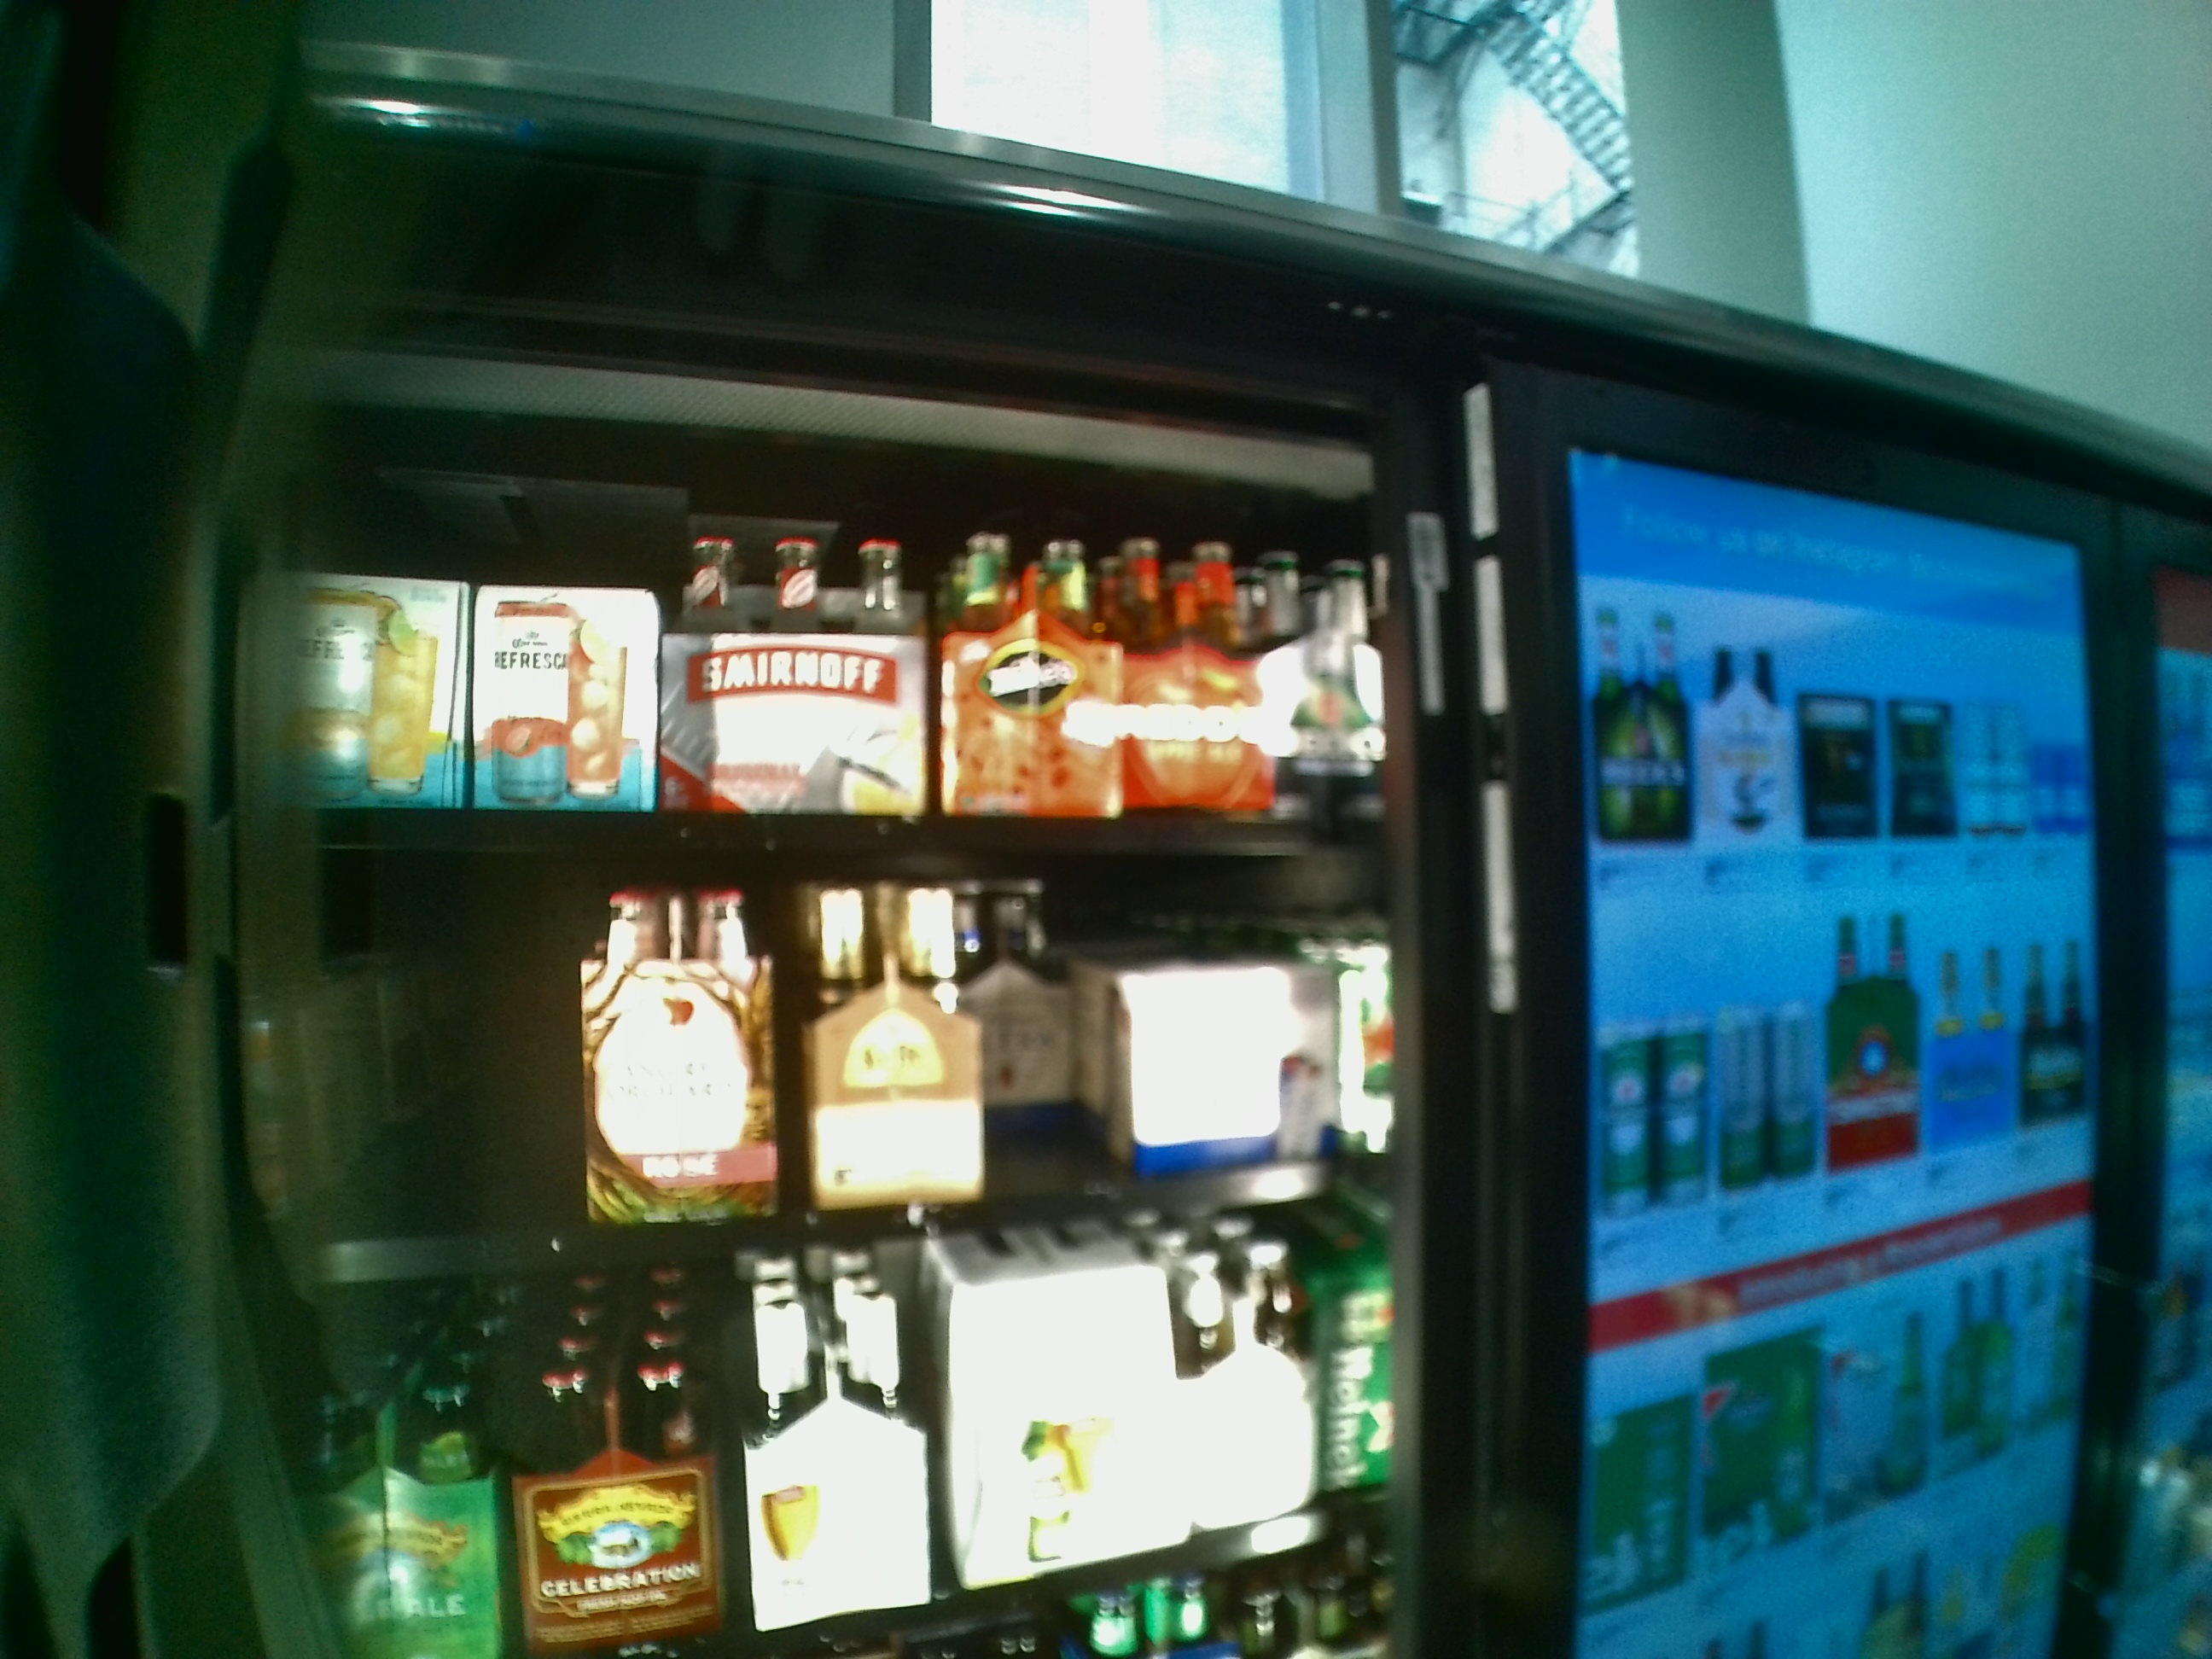shelf: (251, 877, 1390, 1253), (249, 495, 1378, 857)
